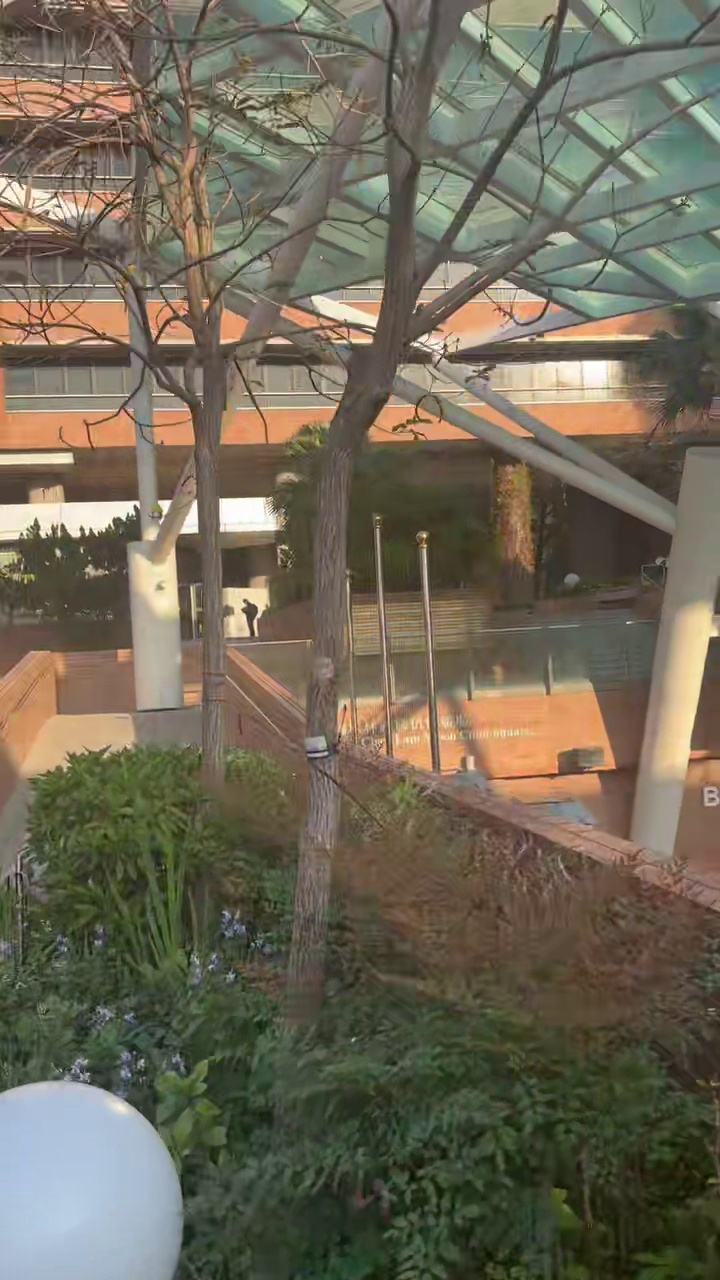Tabebuia chrysantha: (288, 0, 610, 1022)
